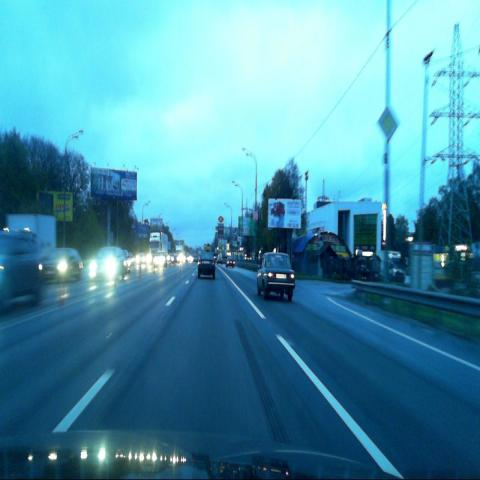2_1: (377, 105, 399, 143)
